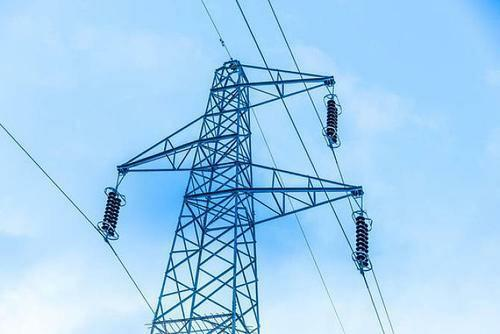power_tower: (102, 51, 380, 334)
